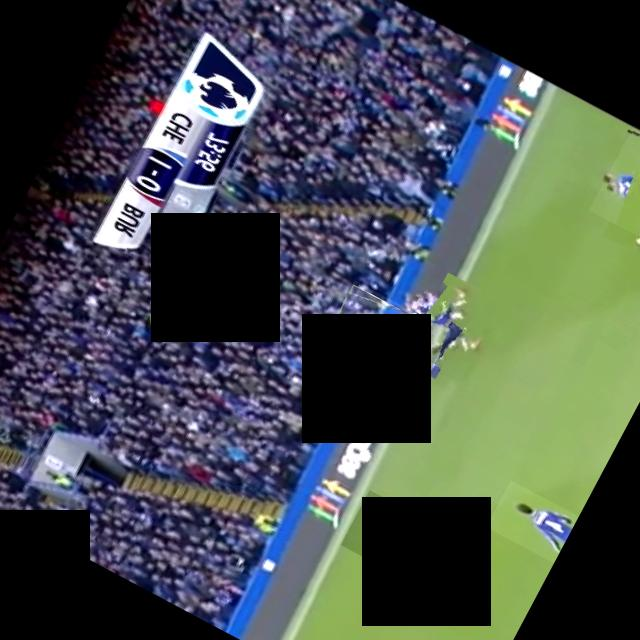referee: (331, 280, 450, 372)
soccer-player: (339, 489, 486, 606), (390, 274, 491, 375), (484, 480, 578, 562), (587, 123, 640, 257)
